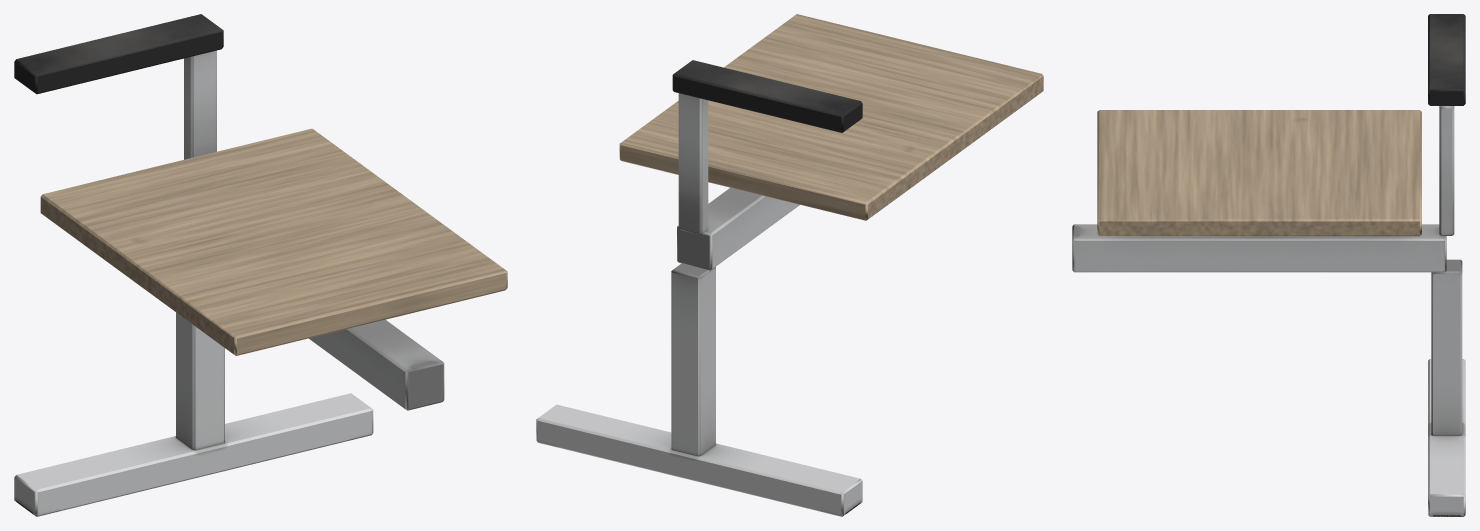
Rendered from Seat_Table.fbx.
3 renders of one model, left to right at view 1: azimuth 30°, elevation 25°; view 2: azimuth 150°, elevation 25°; view 3: azimuth 270°, elevation 25°, orthographic. The views are drawn at different scales.
Visible parts, largest first — view 1: Seat_Table_LOD0; view 2: Seat_Table_LOD0; view 3: Seat_Table_LOD0.
Boxes of the visible parts, x1=… form: Seat_Table_LOD0: x1=14, y1=14, x2=507, y2=516; Seat_Table_LOD0: x1=536, y1=14, x2=1043, y2=516; Seat_Table_LOD0: x1=1072, y1=14, x2=1465, y2=516.
Size of what is drawn, in the model's own units: 0.52 by 0.65 by 0.63.
Materials: 1 (1 with a texture image).
